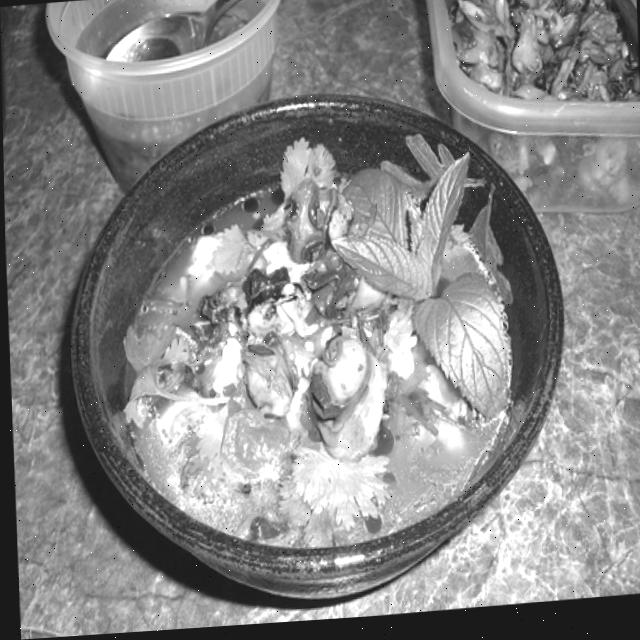面条主食: (13, 0, 626, 611)
